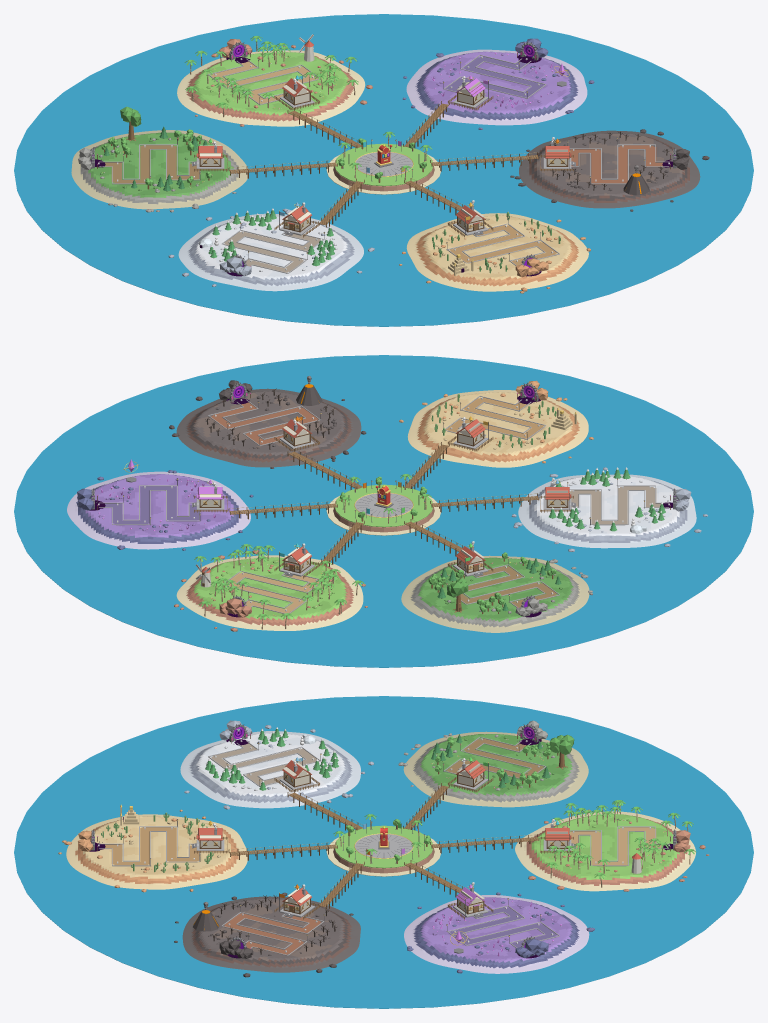
File: mapa_completo.glb
The picture shows the model from 3 angles, top to bottom: view 1: azimuth 30°, elevation 25°; view 2: azimuth 150°, elevation 25°; view 3: azimuth 270°, elevation 25°; orthographic projection.
Visible parts, largest first — view 1: Agua, Isla6_Cristal_Terreno, Isla5_Volcan_Terreno, Isla1_Tropical_Terreno, Isla4_Desierto_Terreno, Isla2_Bosque_Terreno, Isla3_Nieve_Terreno, Centro_Plaza, Isla3_Nieve_Arboles, Isla2_Bosque_Arboles, Isla1_Tropical_Arboles_1, Isla6_Cristal_Casa (+20 smaller); view 2: Agua, Isla6_Cristal_Terreno, Isla5_Volcan_Terreno, Isla1_Tropical_Terreno, Isla4_Desierto_Terreno, Isla2_Bosque_Terreno, Isla3_Nieve_Terreno, Centro_Plaza, Isla3_Nieve_Arboles, Isla2_Bosque_Arboles, Isla1_Tropical_Arboles_1, Isla4_Desierto_Casa (+20 smaller); view 3: Agua, Isla6_Cristal_Terreno, Isla4_Desierto_Terreno, Isla5_Volcan_Terreno, Isla1_Tropical_Terreno, Isla2_Bosque_Terreno, Isla3_Nieve_Terreno, Centro_Plaza, Isla3_Nieve_Arboles, Isla2_Bosque_Arboles, Isla1_Tropical_Arboles_1, Isla2_Bosque_Casa (+20 smaller).
Boxes of the visible parts, <box> form: Agua: <box>14,14,753,326</box>; Isla6_Cristal_Terreno: <box>406,49,587,125</box>; Isla5_Volcan_Terreno: <box>519,130,700,208</box>; Isla1_Tropical_Terreno: <box>177,50,365,126</box>; Isla4_Desierto_Terreno: <box>406,213,588,291</box>; Isla2_Bosque_Terreno: <box>71,130,247,209</box>; Isla3_Nieve_Terreno: <box>178,213,363,291</box>; Centro_Plaza: <box>326,139,440,194</box>; Isla3_Nieve_Arboles: <box>208,208,335,266</box>; Isla2_Bosque_Arboles: <box>101,126,211,191</box>; Isla1_Tropical_Arboles_1: <box>212,41,337,108</box>; Isla6_Cristal_Casa: <box>448,75,493,110</box>; Agua: <box>14,355,753,667</box>; Isla6_Cristal_Terreno: <box>67,471,250,549</box>; Isla5_Volcan_Terreno: <box>176,388,361,467</box>; Isla1_Tropical_Terreno: <box>176,555,363,630</box>; Isla4_Desierto_Terreno: <box>407,390,588,467</box>; Isla2_Bosque_Terreno: <box>401,555,589,632</box>; Isla3_Nieve_Terreno: <box>518,474,696,548</box>; Centro_Plaza: <box>326,480,440,535</box>; Isla3_Nieve_Arboles: <box>549,467,665,531</box>; Isla2_Bosque_Arboles: <box>428,552,561,613</box>; Isla1_Tropical_Arboles_1: <box>210,545,340,613</box>; Isla4_Desierto_Casa: <box>448,416,493,451</box>; Agua: <box>14,696,753,1008</box>; Isla6_Cristal_Terreno: <box>404,895,589,973</box>; Isla4_Desierto_Terreno: <box>66,814,247,889</box>; Isla5_Volcan_Terreno: <box>182,896,360,972</box>; Isla1_Tropical_Terreno: <box>515,811,695,891</box>; Isla2_Bosque_Terreno: <box>403,731,588,807</box>; Isla3_Nieve_Terreno: <box>180,731,360,808</box>; Centro_Plaza: <box>326,821,440,876</box>; Isla3_Nieve_Arboles: <box>205,727,338,790</box>; Isla2_Bosque_Arboles: <box>431,734,559,789</box>; Isla1_Tropical_Arboles_1: <box>548,805,673,873</box>; Isla2_Bosque_Casa: <box>448,757,493,792</box>.
Size of the model in its own units: 328 by 21.66 by 328.
1 material, 1 textured.
